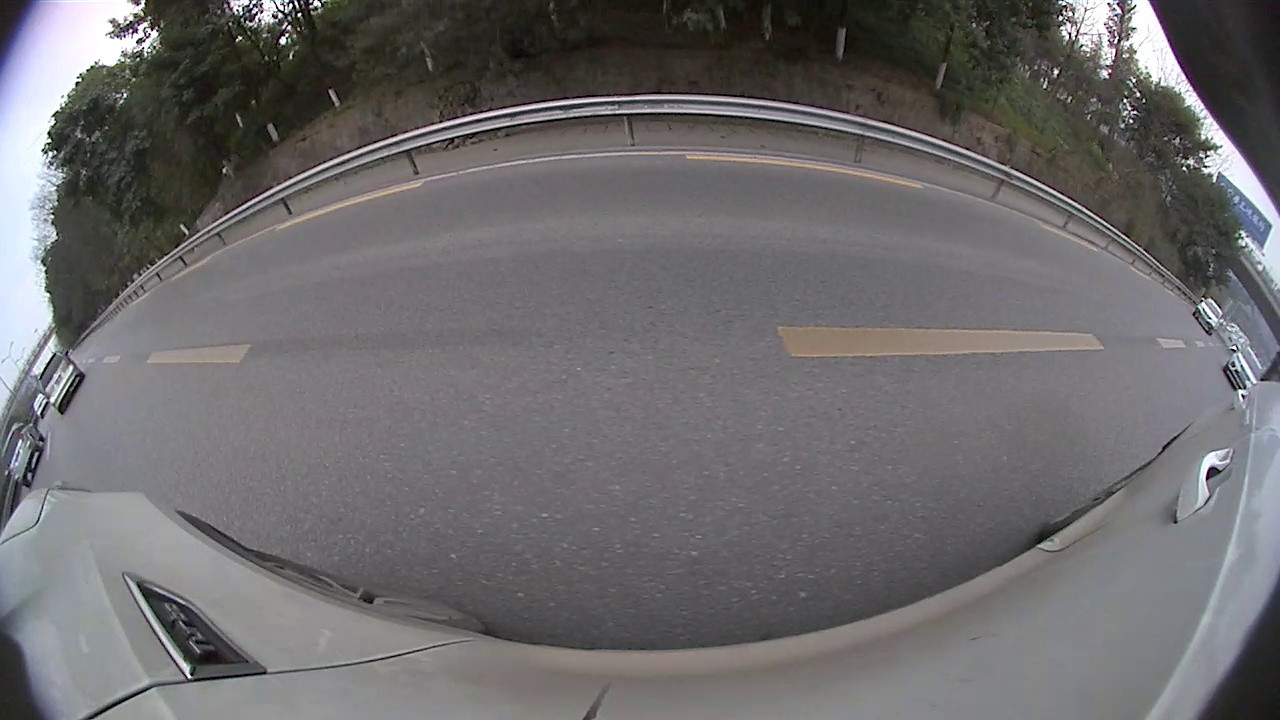bus: (811, 102, 1118, 273), (1125, 186, 1279, 397)
car: (301, 145, 519, 264), (608, 125, 741, 224), (741, 137, 825, 205), (539, 149, 603, 195)
front: (1189, 319, 1241, 381), (503, 186, 519, 220), (822, 176, 835, 199)
rear: (428, 201, 462, 249), (919, 188, 951, 236), (750, 176, 765, 201)
